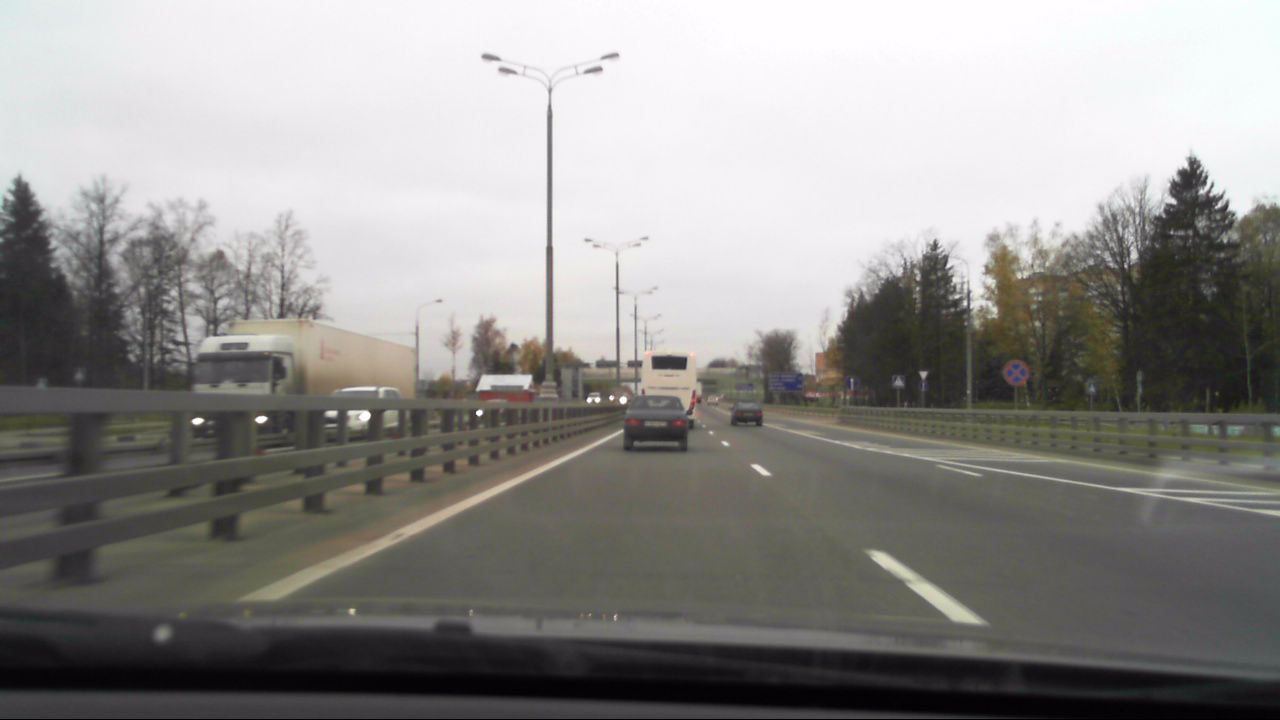No Parking: (1001, 359, 1028, 385)
